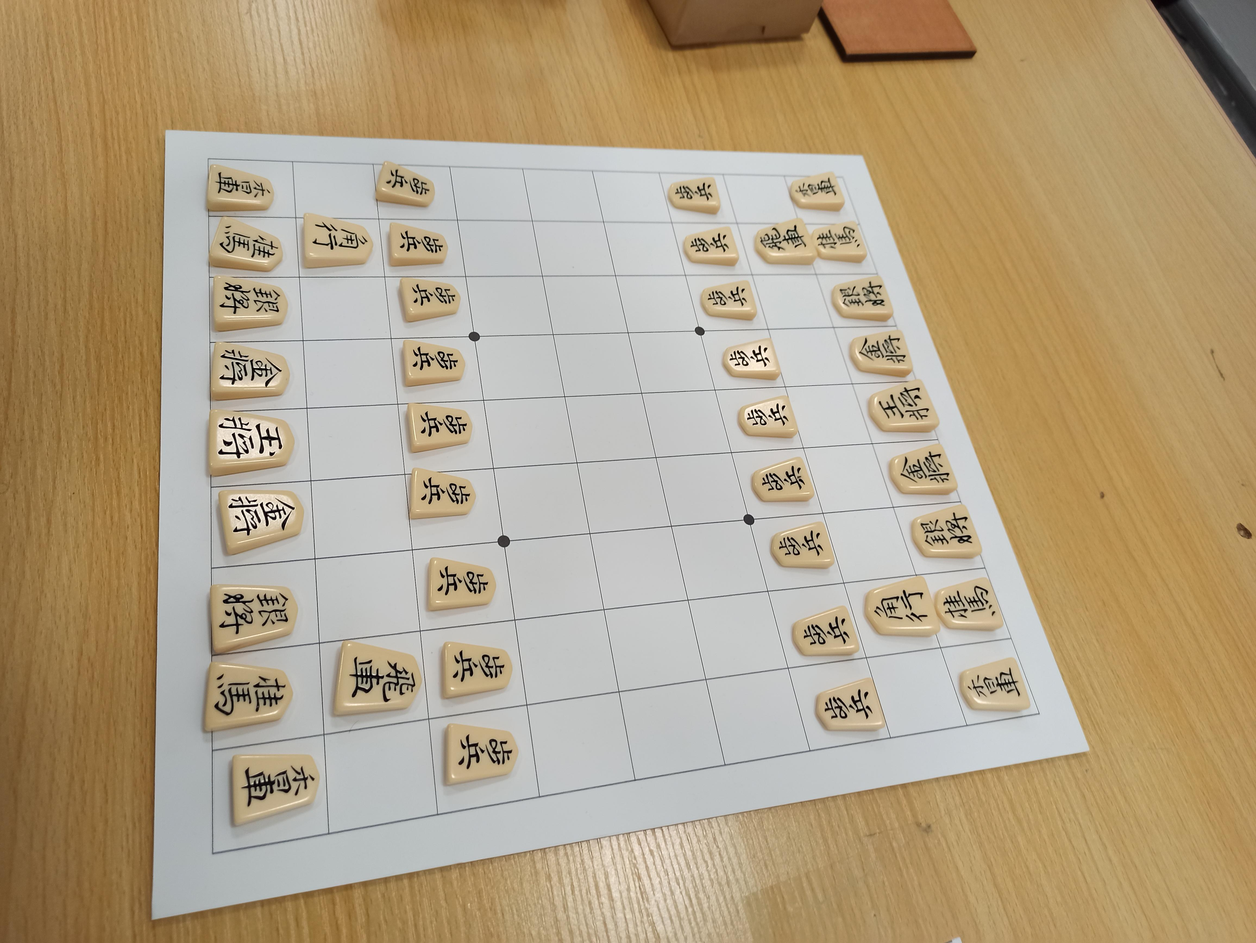board: (209, 157, 1040, 852)
